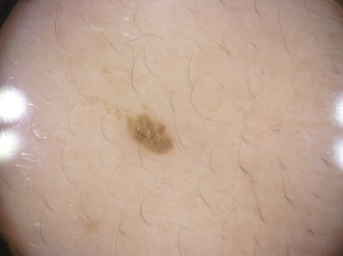seborrheic keratosis: (89, 91, 191, 167)
